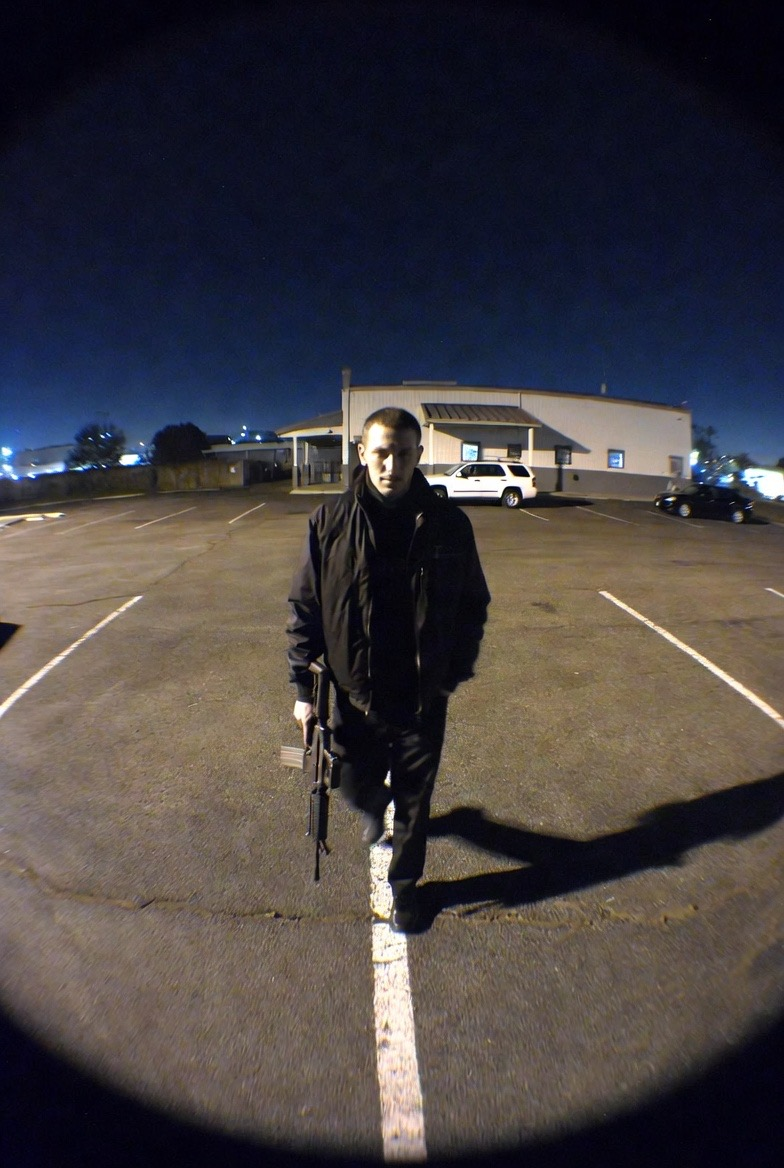person: (284, 407, 492, 934)
weapon: (298, 661, 334, 883)
